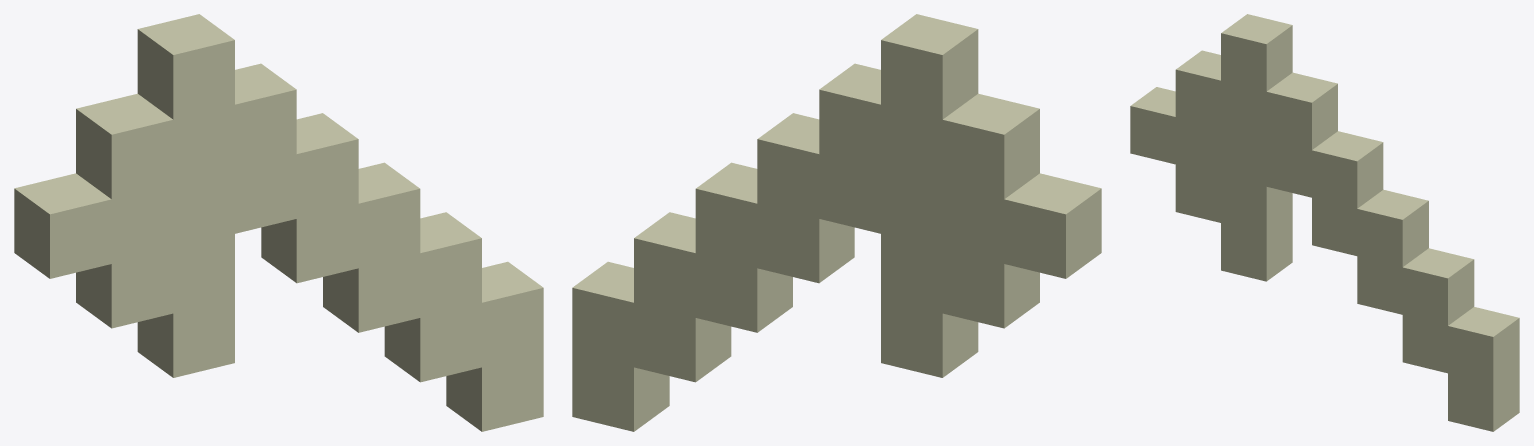
Rendered from Axe-Tan.vox.obj.
3 renders of one model, left to right at view 1: azimuth 30°, elevation 25°; view 2: azimuth 150°, elevation 25°; view 3: azimuth 330°, elevation 25°, orthographic. The views are drawn at different scales.
Bounding box in the file's own units: 0.8 × 0.7 × 0.1.
Materials: 1 (1 with a texture image).
